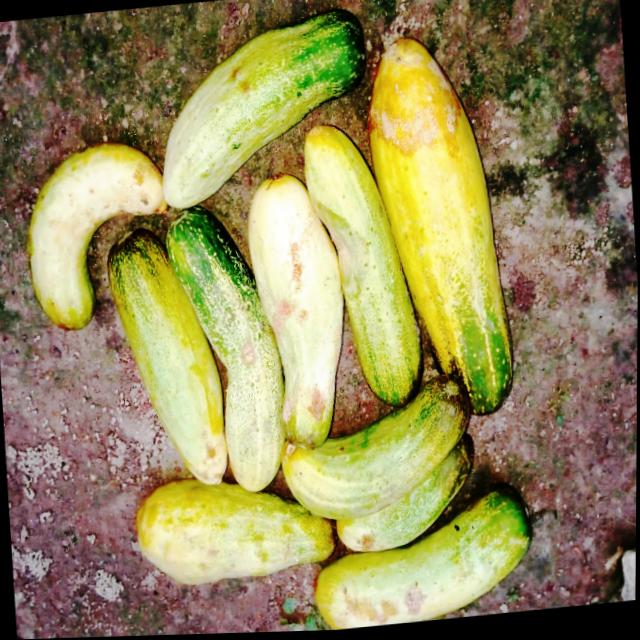Belly-Rot: (360, 33, 468, 170), (313, 194, 375, 310), (264, 237, 313, 343), (338, 577, 431, 631), (279, 374, 334, 434), (189, 434, 230, 495), (132, 157, 165, 208), (225, 60, 257, 100), (234, 336, 261, 377), (353, 527, 377, 558), (276, 539, 293, 560), (207, 547, 221, 561)
